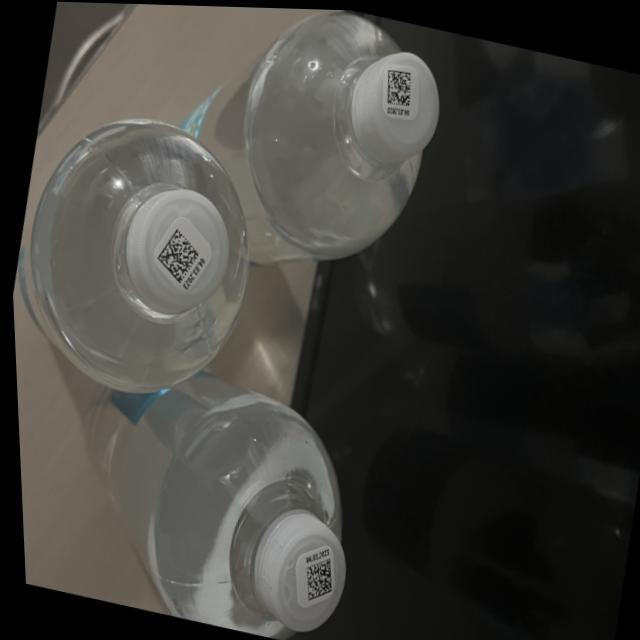datamatrix: (150, 225, 202, 287), (295, 553, 332, 604), (381, 66, 415, 107)
